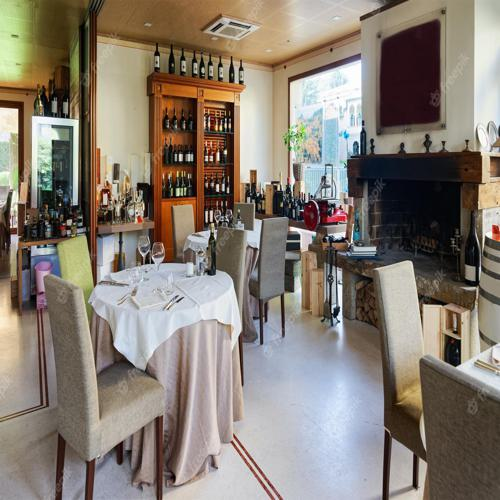copa: (151, 241, 166, 279), (137, 233, 150, 274), (224, 208, 233, 231), (213, 208, 222, 228)
